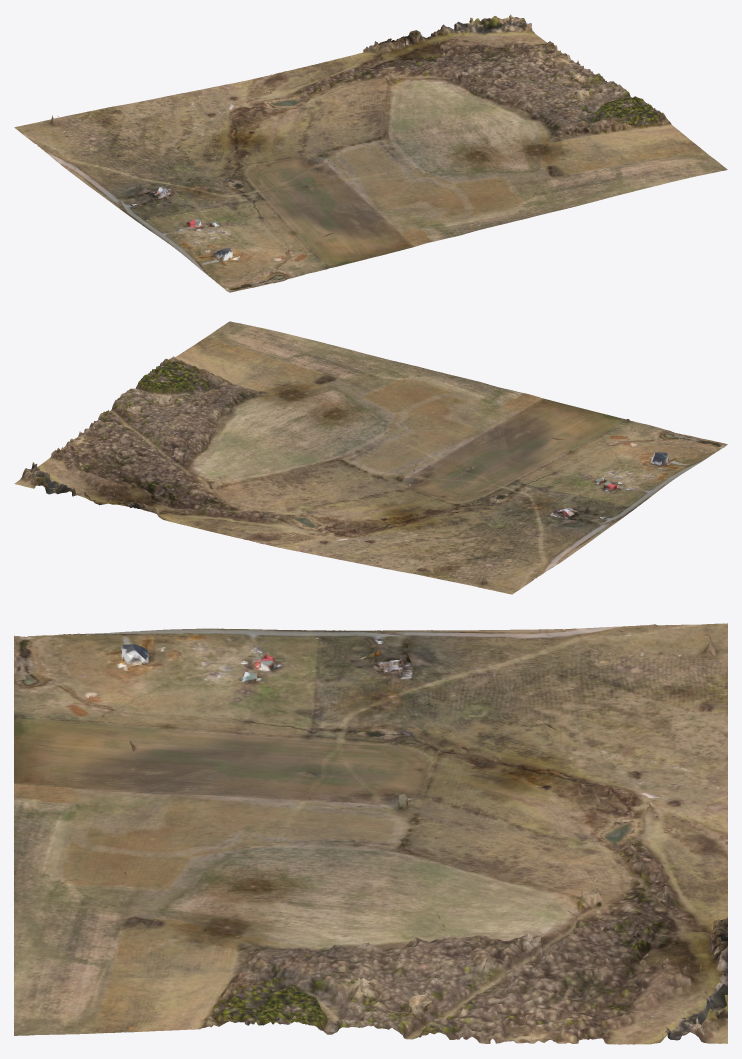
Rendered from landscape-flight.glb.
The picture shows the model from 3 angles, top to bottom: view 1: azimuth 30°, elevation 25°; view 2: azimuth 150°, elevation 25°; view 3: azimuth 270°, elevation 25°; orthographic projection. The views are drawn at different scales.
Visible parts, largest first — view 1: land; view 2: land; view 3: land.
Part boxes in pixels (x1=…): land: x1=14, y1=14, x2=727, y2=292; land: x1=14, y1=321, x2=727, y2=594; land: x1=14, y1=623, x2=727, y2=1044.
Size of the model in its own units: 588 by 29.32 by 441.
Materials: 1 (1 with a texture image).
